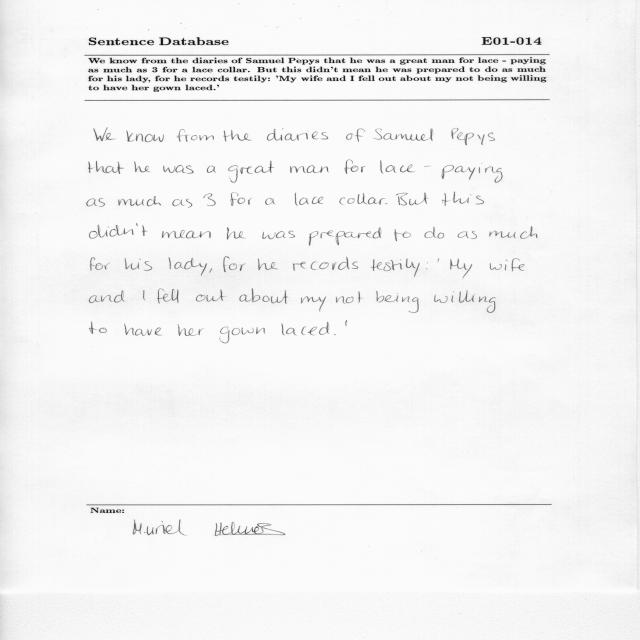word: (434, 290, 496, 313), (309, 227, 381, 246), (442, 165, 503, 183), (228, 161, 274, 183), (370, 258, 420, 277), (376, 291, 419, 313), (90, 223, 148, 239), (293, 257, 358, 271), (267, 128, 328, 141), (219, 327, 265, 344), (374, 128, 434, 141), (451, 128, 495, 145), (239, 289, 288, 304), (169, 257, 207, 276), (489, 226, 538, 239), (282, 322, 330, 335), (442, 192, 484, 206), (339, 193, 386, 205), (380, 160, 415, 174), (177, 129, 214, 142), (88, 161, 124, 174), (89, 290, 125, 303), (126, 130, 164, 142), (124, 324, 162, 336), (490, 259, 525, 272), (118, 196, 161, 206), (450, 259, 472, 278), (396, 193, 428, 206), (162, 230, 211, 238), (301, 297, 326, 312), (295, 193, 323, 206), (125, 258, 153, 271), (196, 290, 225, 302), (223, 257, 246, 272), (336, 291, 362, 304), (223, 130, 251, 142), (157, 289, 179, 304), (290, 165, 329, 173), (178, 324, 204, 336), (345, 160, 366, 174), (231, 192, 252, 206), (163, 165, 194, 174), (94, 128, 115, 141), (262, 231, 295, 239), (91, 258, 111, 271), (346, 129, 365, 142), (258, 258, 278, 270), (227, 227, 245, 240), (89, 321, 107, 334), (425, 227, 445, 238), (394, 229, 411, 241), (173, 199, 193, 208), (135, 162, 151, 173), (87, 198, 105, 207), (204, 193, 216, 206), (458, 231, 477, 239), (265, 198, 276, 205), (207, 165, 216, 173), (143, 290, 145, 300), (426, 262, 428, 269), (345, 321, 347, 327), (210, 268, 212, 273), (438, 258, 439, 262), (385, 203, 388, 204), (334, 334, 336, 335), (424, 166, 430, 166)
